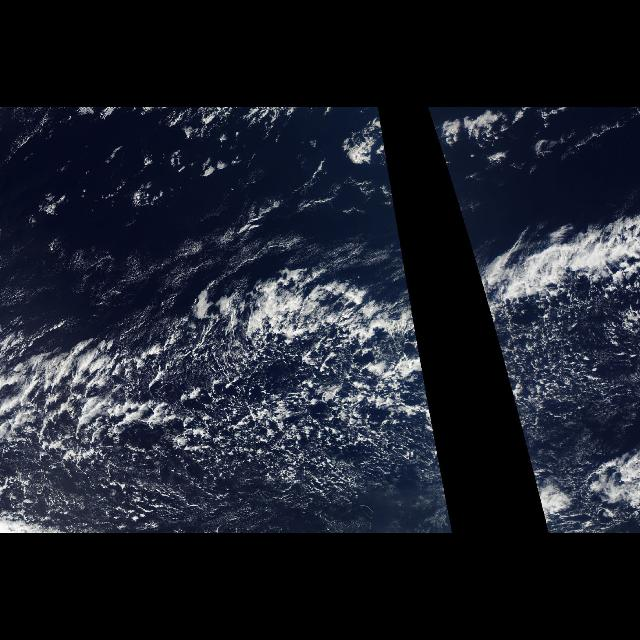Fish: (7, 213, 425, 439), (458, 213, 640, 341)
Gravel: (133, 336, 417, 494)
